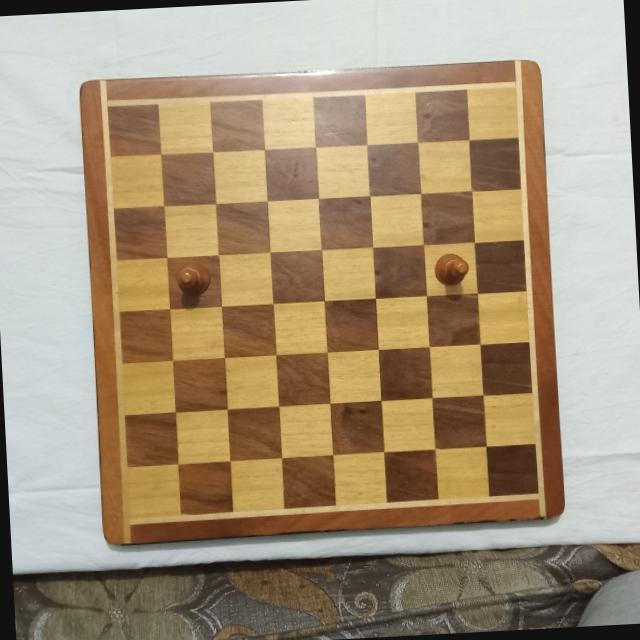white-pawn: (430, 250, 469, 288), (174, 261, 212, 299)
